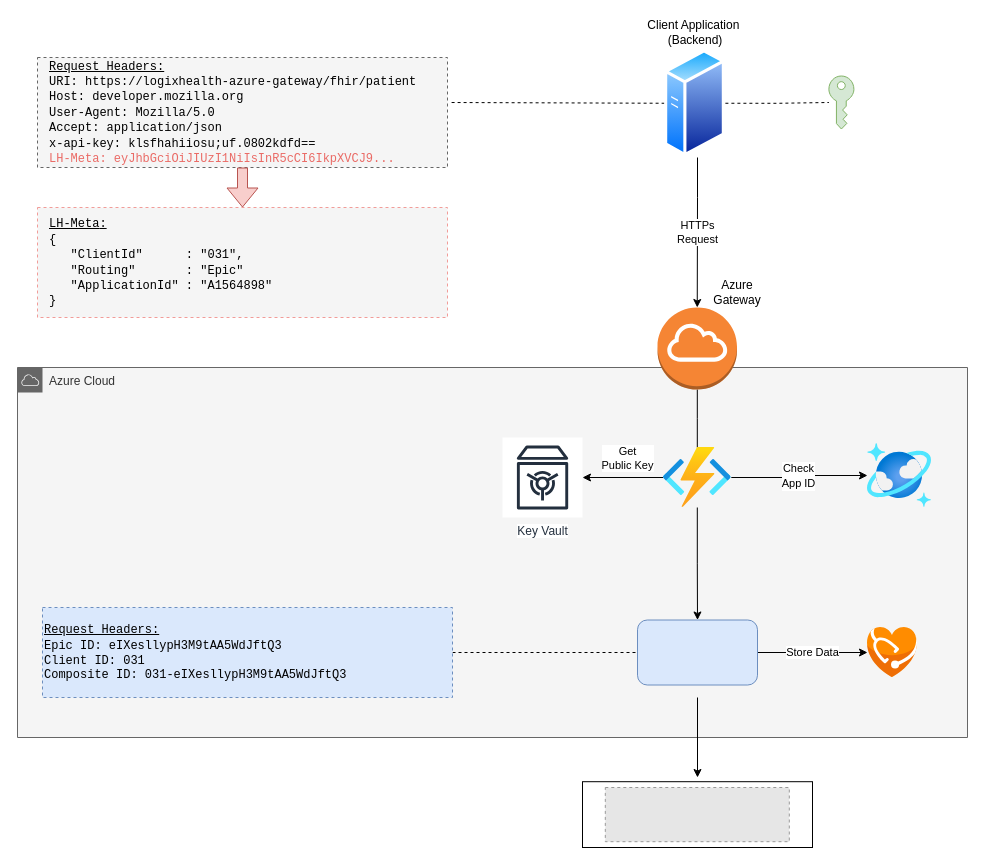
This 985x865 diagram has some shape labels left out. Grey dashed boxes stand in for pictures. Here are the shapes that lost their labels. From the top down, the centre of each, then its label:
At point 841,102: "Private Key".
At point 697,477: "Decrypt LH Meta Header".
At point 697,652: "Any process or function that Brings back Data from Epic".
